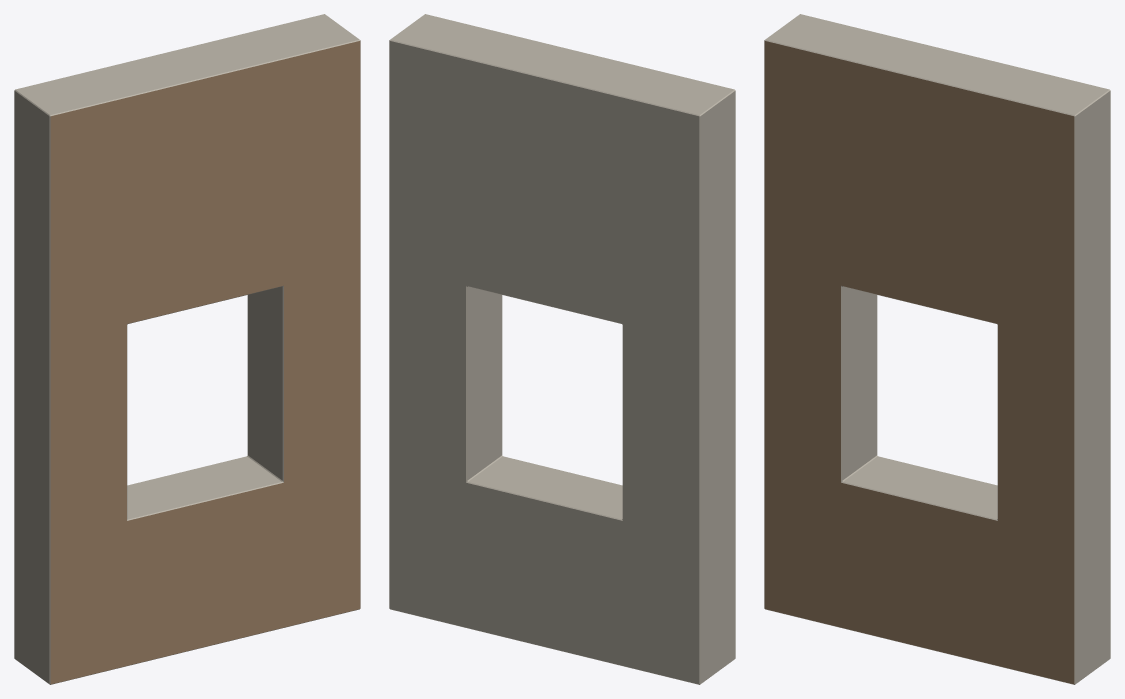
Rendered from arch_wall_ext_window_w200_h350.glb.
3 renders of one model, left to right at view 1: azimuth 30°, elevation 25°; view 2: azimuth 150°, elevation 25°; view 3: azimuth 330°, elevation 25°, orthographic.
Parts seen in each view (by area): view 1: Wall; view 2: Wall; view 3: Wall.
Boxes of the visible parts, x1,y1,x2,y2 form: Wall: (14,14,360,684); Wall: (389,14,735,684); Wall: (764,14,1110,684).
Size of what is drawn, in the model's own units: 2 by 3.5 by 0.4.
